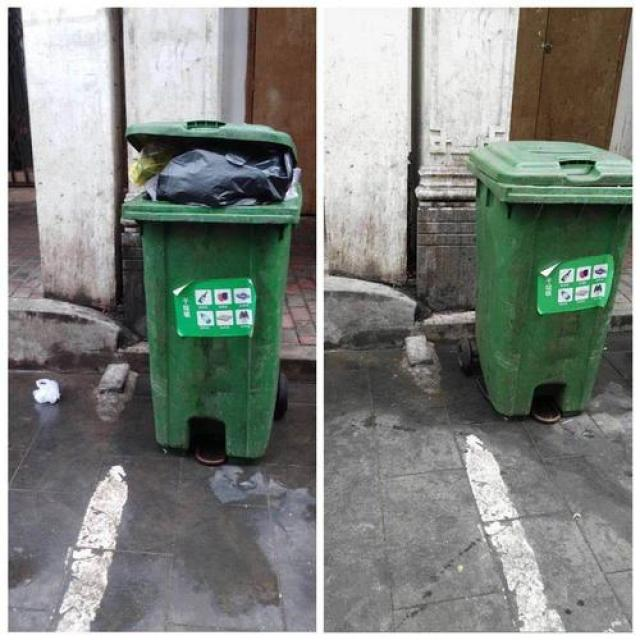garbage: (32, 376, 60, 404)
garbage_bin: (466, 138, 630, 414)
overflow: (119, 118, 301, 458)
